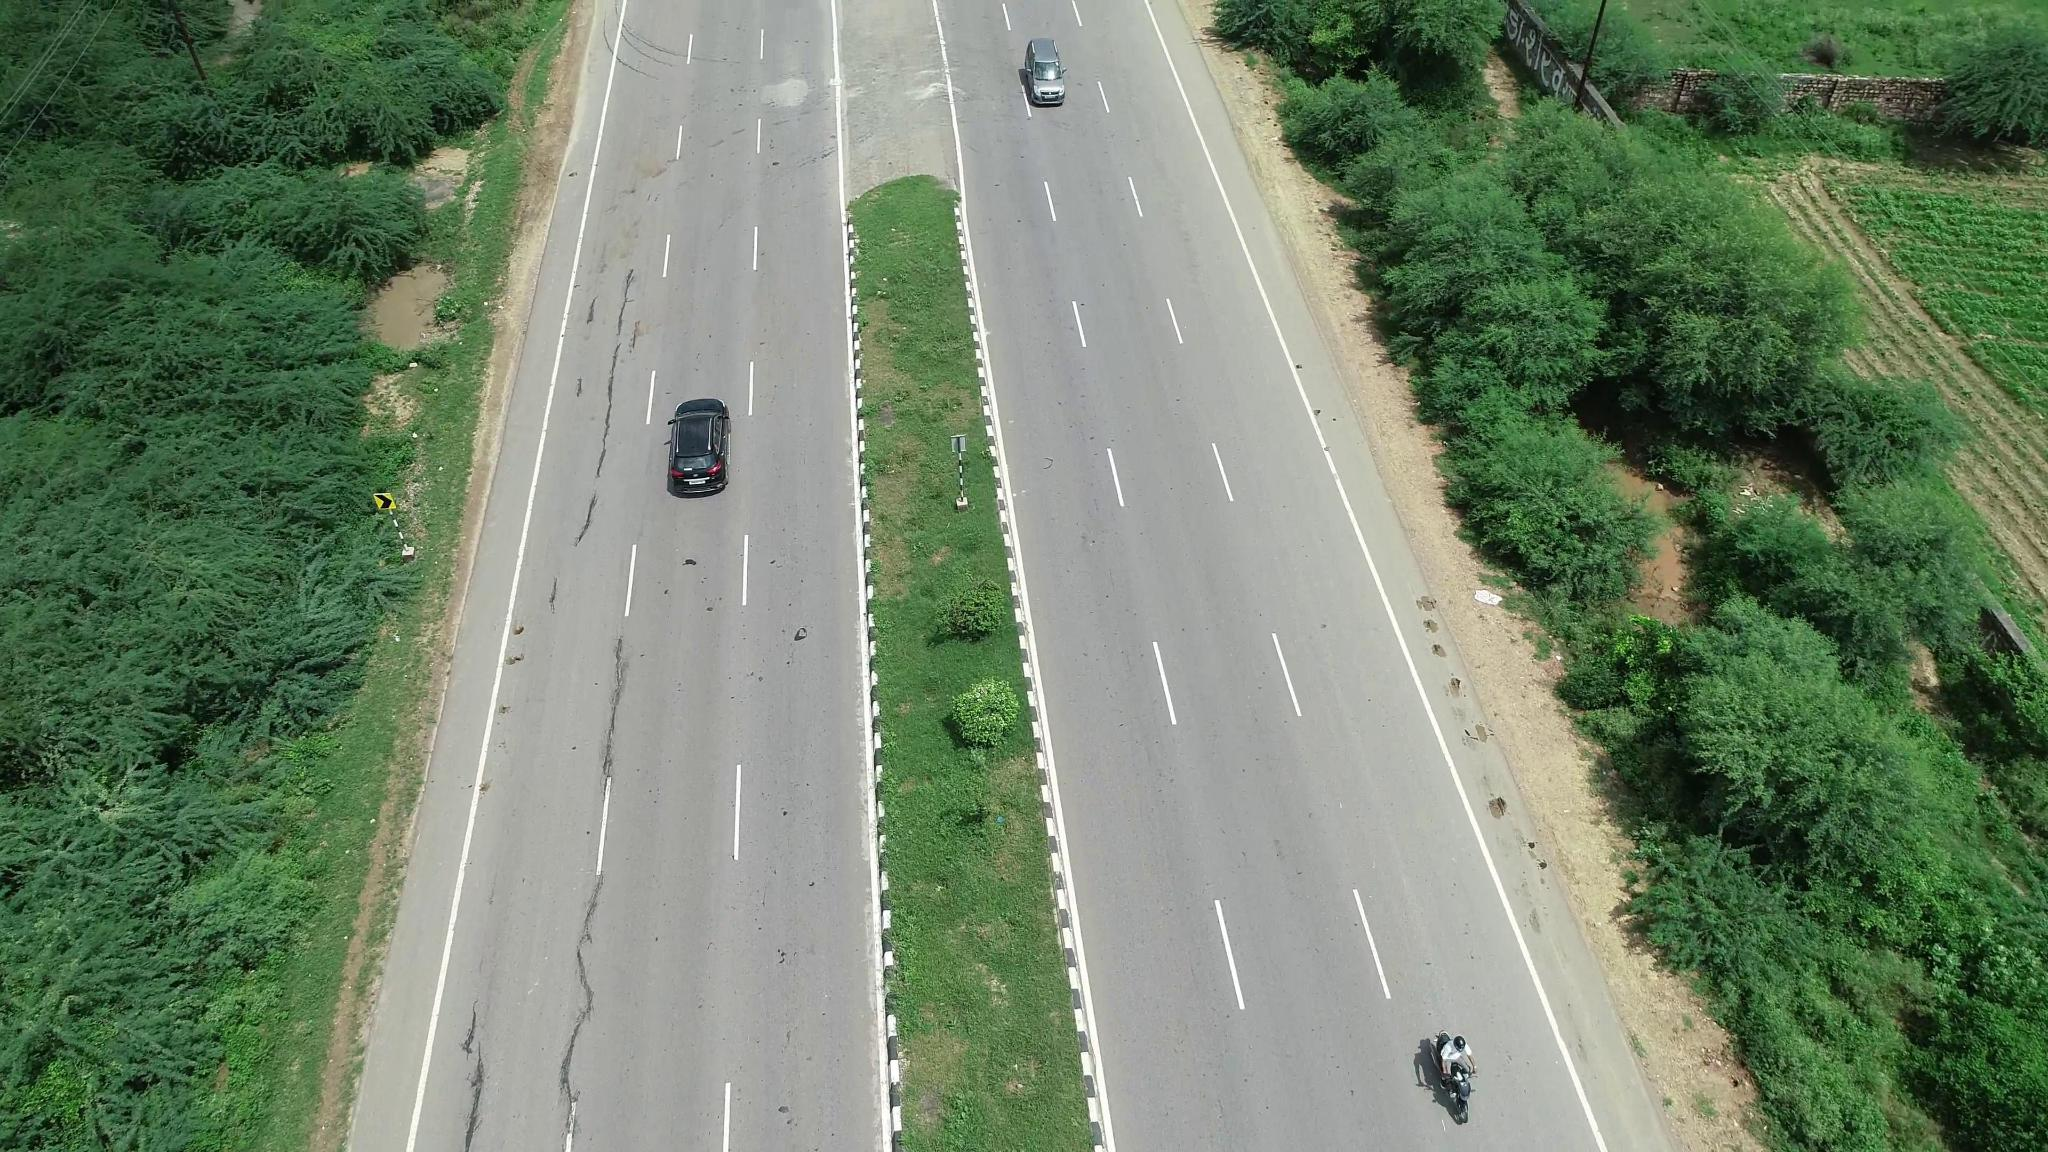Cracks: (572, 263, 655, 544), (549, 904, 610, 1131), (584, 641, 636, 802)
